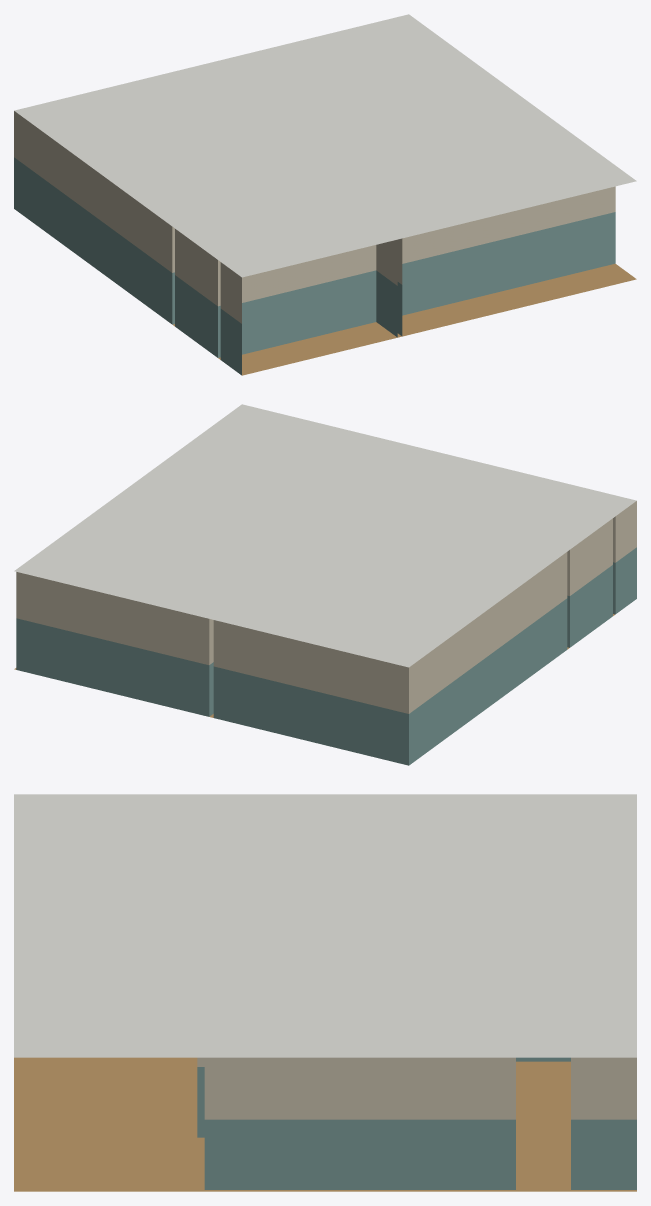
Rendered from chunk_0_0.glb.
3 renders of one model, top to bottom at view 1: azimuth 30°, elevation 25°; view 2: azimuth 150°, elevation 25°; view 3: azimuth 270°, elevation 25°, orthographic. The views are drawn at different scales.
Visible parts, largest first — view 1: chunk_0_0; view 2: chunk_0_0; view 3: chunk_0_0.
Part boxes in pixels (left/top/right/bottom): chunk_0_0: left=14, top=14, right=636, bottom=375; chunk_0_0: left=14, top=404, right=636, bottom=765; chunk_0_0: left=14, top=794, right=636, bottom=1191.
Size of the model in its own units: 12 by 2.85 by 12.
